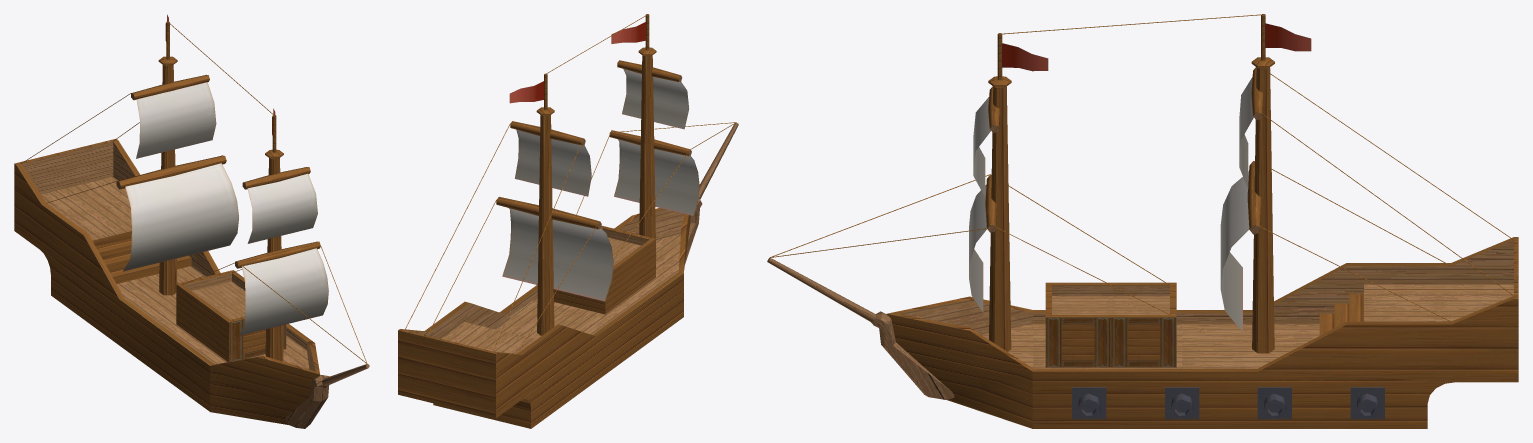
File: decorLarge-harbor-28.glb
3 views of the same model, side by side, from view 1: azimuth 30°, elevation 25°; view 2: azimuth 150°, elevation 25°; view 3: azimuth 270°, elevation 25° (orthographic). The views are drawn at different scales.
Parts seen in each view (by area): view 1: piece; view 2: piece; view 3: piece.
Part boxes in pixels (x1=…): piece: x1=14, y1=14, x2=369, y2=428; piece: x1=398, y1=14, x2=738, y2=428; piece: x1=767, y1=14, x2=1518, y2=428.
Size of the model in its own units: 4.26 by 10.91 by 19.36.
Materials: 1 (1 with a texture image).
